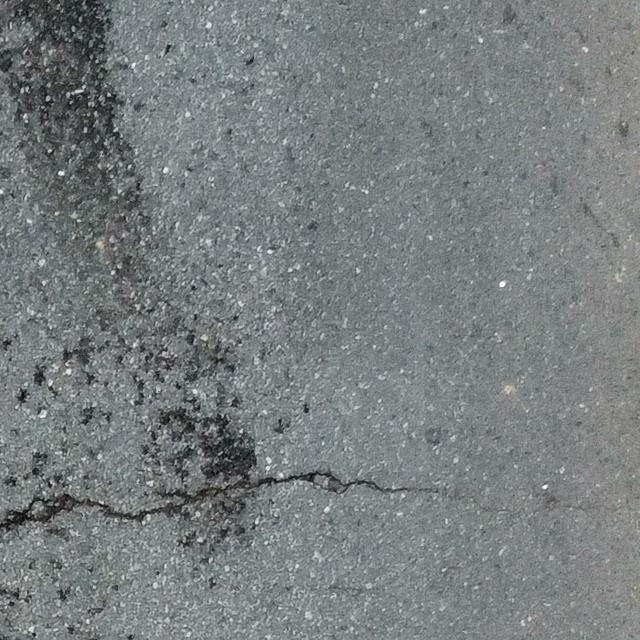TransverseCrack: (1, 470, 437, 531)
